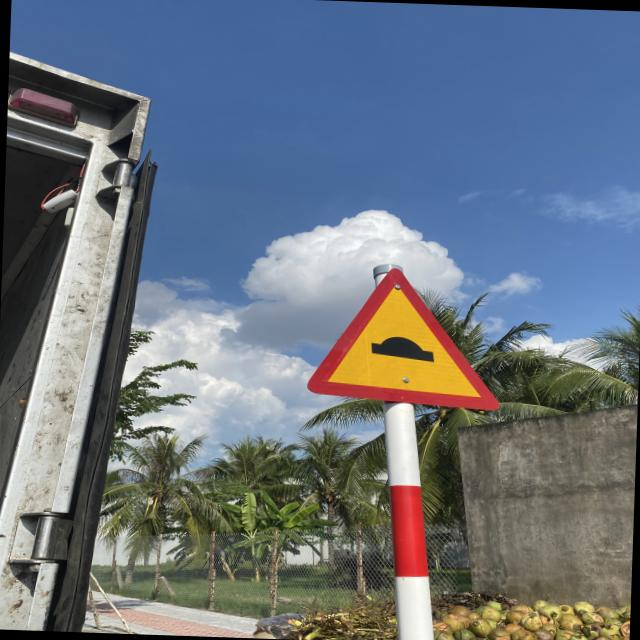Duong_Cong_Ben_Phai: (306, 265, 506, 412)
